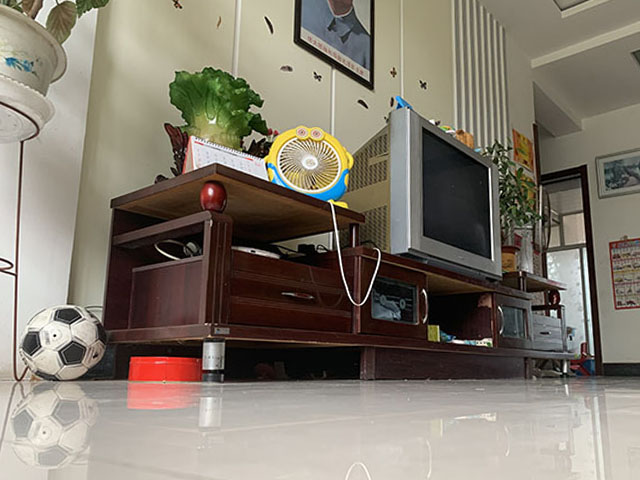cabinet: (100, 166, 579, 383)
